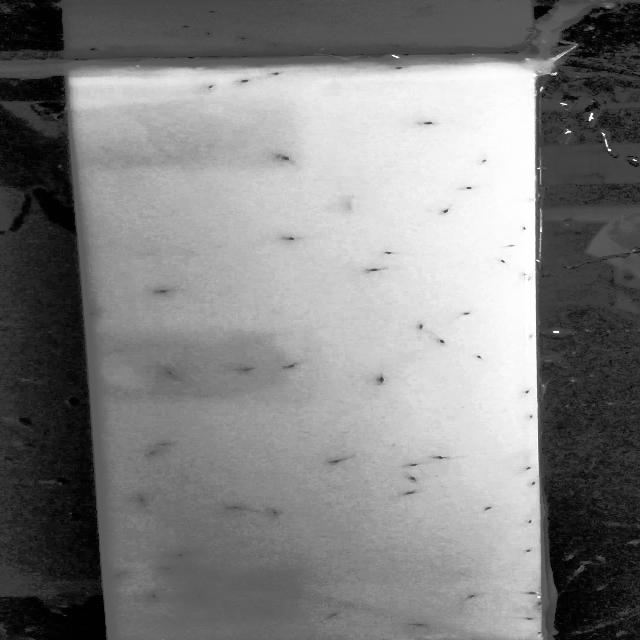shrimp: (261, 68, 288, 79), (414, 117, 441, 128), (277, 152, 298, 164), (280, 230, 301, 242), (143, 448, 164, 460), (157, 564, 180, 574), (431, 450, 448, 463), (224, 502, 244, 513), (129, 495, 153, 504), (386, 64, 406, 74), (434, 209, 456, 218), (84, 308, 102, 319), (370, 374, 389, 384), (109, 570, 126, 581), (474, 156, 494, 165), (172, 551, 192, 560), (498, 241, 517, 250), (462, 184, 479, 194), (471, 351, 486, 362), (238, 76, 254, 86), (407, 460, 423, 470), (265, 507, 281, 517), (434, 335, 448, 346), (403, 474, 420, 483), (368, 264, 383, 274), (240, 366, 255, 376), (156, 286, 172, 295), (160, 370, 178, 378), (496, 256, 510, 266), (193, 592, 210, 600), (530, 630, 547, 638), (524, 516, 536, 527), (460, 308, 473, 318), (404, 488, 417, 498), (204, 82, 220, 90), (328, 611, 343, 619), (415, 322, 428, 331), (330, 456, 343, 465), (526, 413, 540, 421), (525, 590, 539, 598), (412, 622, 428, 629), (381, 250, 395, 258), (524, 548, 536, 557), (284, 362, 299, 369), (526, 482, 539, 490), (523, 464, 535, 472), (533, 600, 545, 608), (146, 592, 158, 600), (522, 615, 534, 623), (158, 442, 173, 448), (482, 504, 492, 513), (522, 388, 533, 396), (468, 593, 479, 599)
